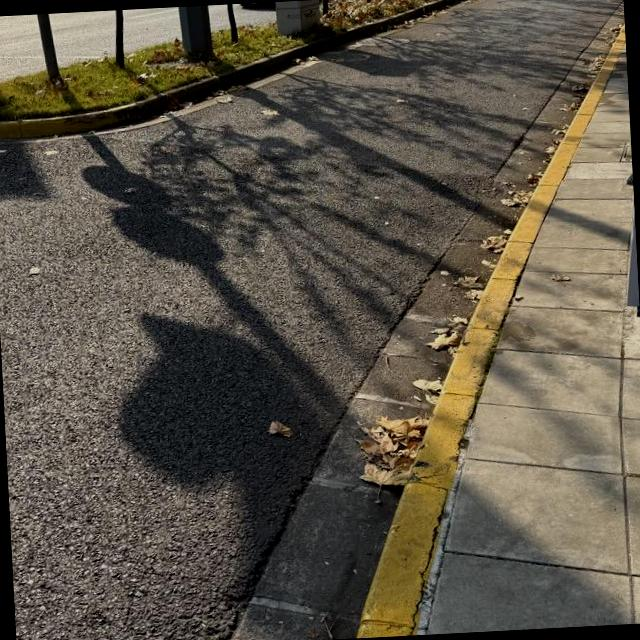curb: (357, 29, 625, 638), (0, 0, 462, 138)
